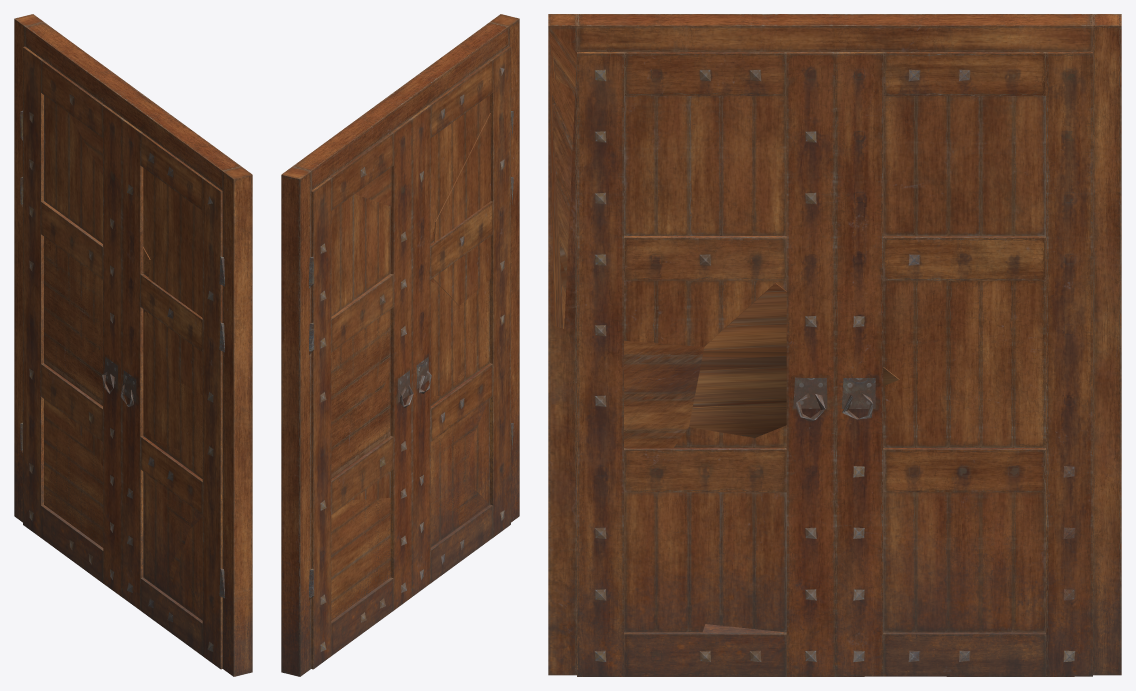
Rendered from WoodenBreakableDoor08.fbx.
The picture shows the model from 3 angles, left to right: view 1: azimuth 30°, elevation 25°; view 2: azimuth 150°, elevation 25°; view 3: azimuth 270°, elevation 25°; orthographic projection. The views are drawn at different scales.
Parts seen in each view (by area): view 1: SM_Door_08a_LOD3_Part_4, SM_Door_08a_LOD3_Part_6, SM_Door_08a_LOD3_Part_8, SM_Door_08a_LOD3_Part_7, SM_Door_08a_LOD3_Part_5, SM_Door_08a_LOD3_Part_1, SM_Door_08a_LOD3_Part_10, SM_Door_08a_LOD3_Part_3, SM_Door_08a_LOD3_Part_2, SM_Door_08a_LOD3_Part_9; view 2: SM_Door_08a_LOD3_Part_4, SM_Door_08a_LOD3_Part_8, SM_Door_08a_LOD3_Part_6, SM_Door_08a_LOD3_Part_7, SM_Door_08a_LOD3_Part_1, SM_Door_08a_LOD3_Part_5, SM_Door_08a_LOD3_Part_10, SM_Door_08a_LOD3_Part_3, SM_Door_08a_LOD3_Part_9, SM_Door_08a_LOD3_Part_2; view 3: SM_Door_08a_LOD3_Part_4, SM_Door_08a_LOD3_Part_8, SM_Door_08a_LOD3_Part_6, SM_Door_08a_LOD3_Part_7, SM_Door_08a_LOD3_Part_5, SM_Door_08a_LOD3_Part_1, SM_Door_08a_LOD3_Part_3, SM_Door_08a_LOD3_Part_10, SM_Door_08a_LOD3_Part_9, SM_Door_08a_LOD3_Part_2.
Boxes of the visible parts, box(x1,y1,x2,y2) form: SM_Door_08a_LOD3_Part_4: box(14, 14, 150, 373); SM_Door_08a_LOD3_Part_6: box(18, 17, 252, 259); SM_Door_08a_LOD3_Part_8: box(14, 362, 177, 637); SM_Door_08a_LOD3_Part_7: box(144, 212, 252, 406); SM_Door_08a_LOD3_Part_5: box(172, 507, 252, 676); SM_Door_08a_LOD3_Part_1: box(34, 352, 154, 497); SM_Door_08a_LOD3_Part_10: box(97, 311, 180, 450); SM_Door_08a_LOD3_Part_3: box(122, 441, 195, 581); SM_Door_08a_LOD3_Part_2: box(202, 402, 252, 524); SM_Door_08a_LOD3_Part_9: box(174, 379, 222, 508); SM_Door_08a_LOD3_Part_4: box(281, 171, 436, 522); SM_Door_08a_LOD3_Part_8: box(281, 498, 467, 676); SM_Door_08a_LOD3_Part_6: box(286, 14, 519, 221); SM_Door_08a_LOD3_Part_7: box(433, 57, 519, 305); SM_Door_08a_LOD3_Part_1: box(325, 392, 440, 502); SM_Door_08a_LOD3_Part_5: box(457, 364, 519, 555); SM_Door_08a_LOD3_Part_10: box(382, 278, 465, 396); SM_Door_08a_LOD3_Part_3: box(412, 369, 483, 512); SM_Door_08a_LOD3_Part_9: box(459, 262, 510, 401); SM_Door_08a_LOD3_Part_2: box(492, 247, 519, 390); SM_Door_08a_LOD3_Part_4: box(766, 14, 1121, 474); SM_Door_08a_LOD3_Part_8: box(687, 469, 1121, 676); SM_Door_08a_LOD3_Part_6: box(548, 14, 1111, 210); SM_Door_08a_LOD3_Part_7: box(548, 75, 775, 346); SM_Door_08a_LOD3_Part_5: box(548, 476, 710, 676); SM_Door_08a_LOD3_Part_1: box(755, 379, 1059, 544); SM_Door_08a_LOD3_Part_3: box(645, 427, 835, 609); SM_Door_08a_LOD3_Part_10: box(689, 283, 899, 437); SM_Door_08a_LOD3_Part_9: box(589, 340, 704, 487); SM_Door_08a_LOD3_Part_2: box(548, 323, 636, 484).
Size of the model in its own units: 7.47 by 98.43 by 78.74.
Materials: 1 (1 with a texture image).
